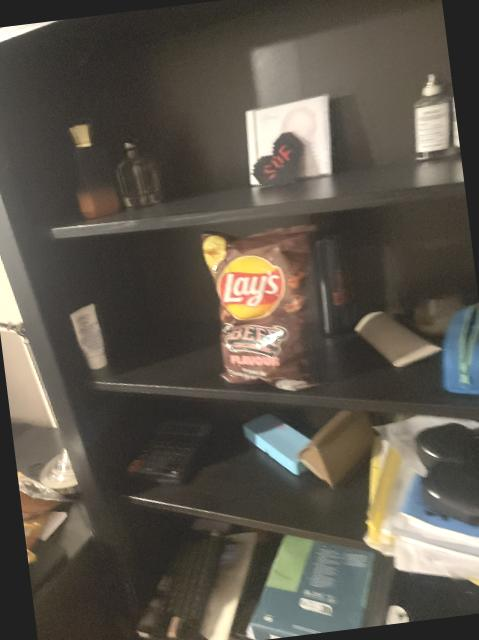Lays Beef Grilled Ribs 125g: (199, 219, 338, 396)
